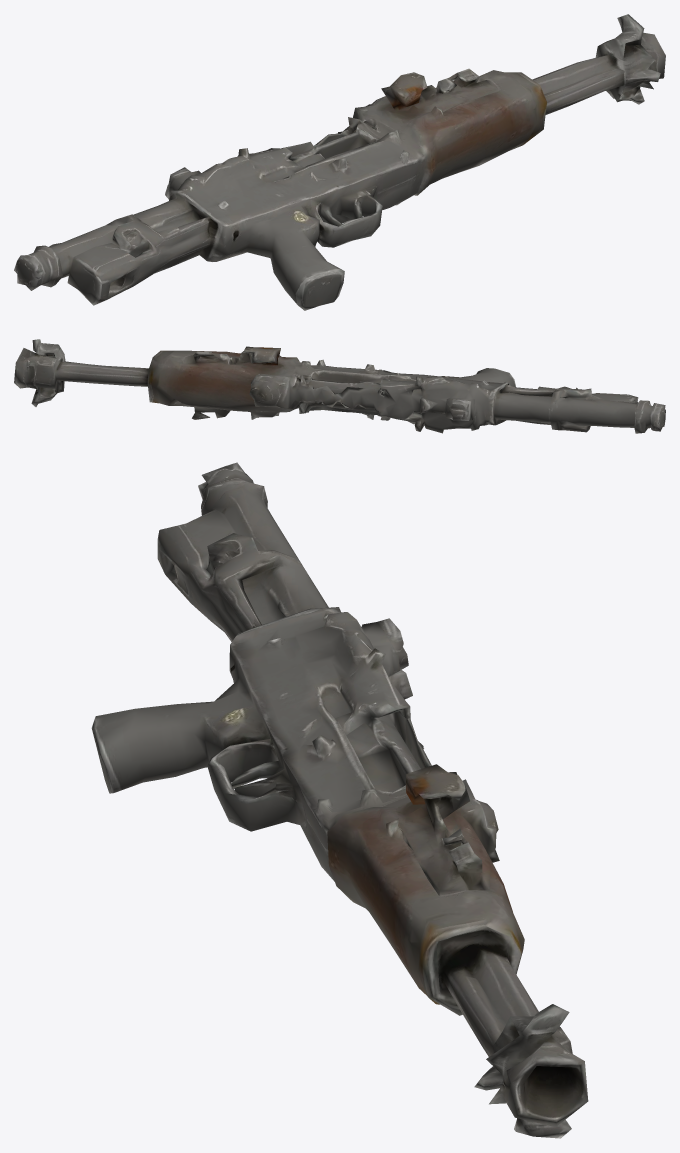
File: gun_body_rifle.glb
3 views of the same model, one above another, from view 1: azimuth 30°, elevation 25°; view 2: azimuth 150°, elevation 25°; view 3: azimuth 270°, elevation 25° (orthographic). The views are drawn at different scales.
Parts seen in each view (by area): view 1: gun_body_rifle; view 2: gun_body_rifle; view 3: gun_body_rifle.
Part boxes in pixels (<box>): gun_body_rifle: <box>14,14,665,310</box>; gun_body_rifle: <box>14,339,665,433</box>; gun_body_rifle: <box>91,462,588,1138</box>.
Bounding box in the file's own units: 0.45 × 0.0653 × 0.1709.
Materials: 1 (1 with a texture image).
